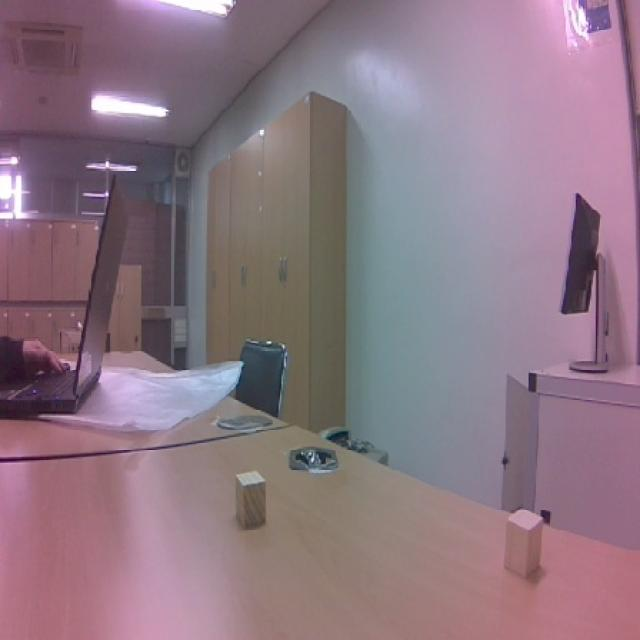obstacle: (496, 501, 552, 582), (225, 463, 270, 530)
